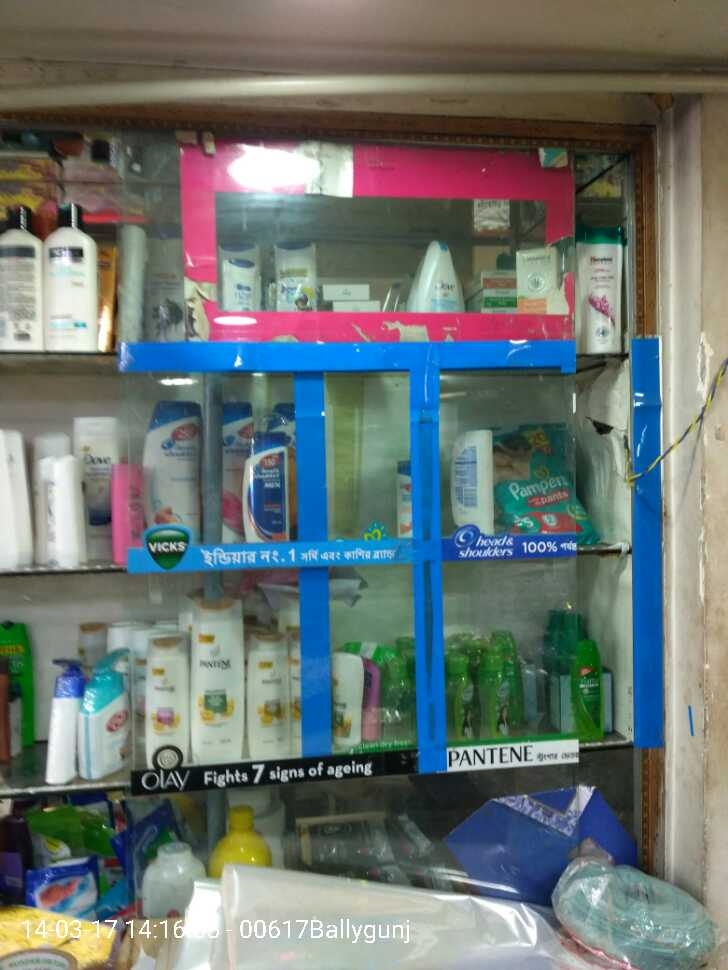beauty: (186, 594, 237, 764), (136, 637, 184, 762), (252, 639, 293, 771)
pharmacy: (492, 432, 607, 546)
